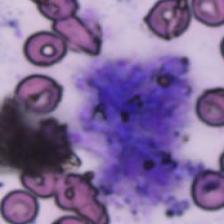D: (73, 54, 208, 219)
